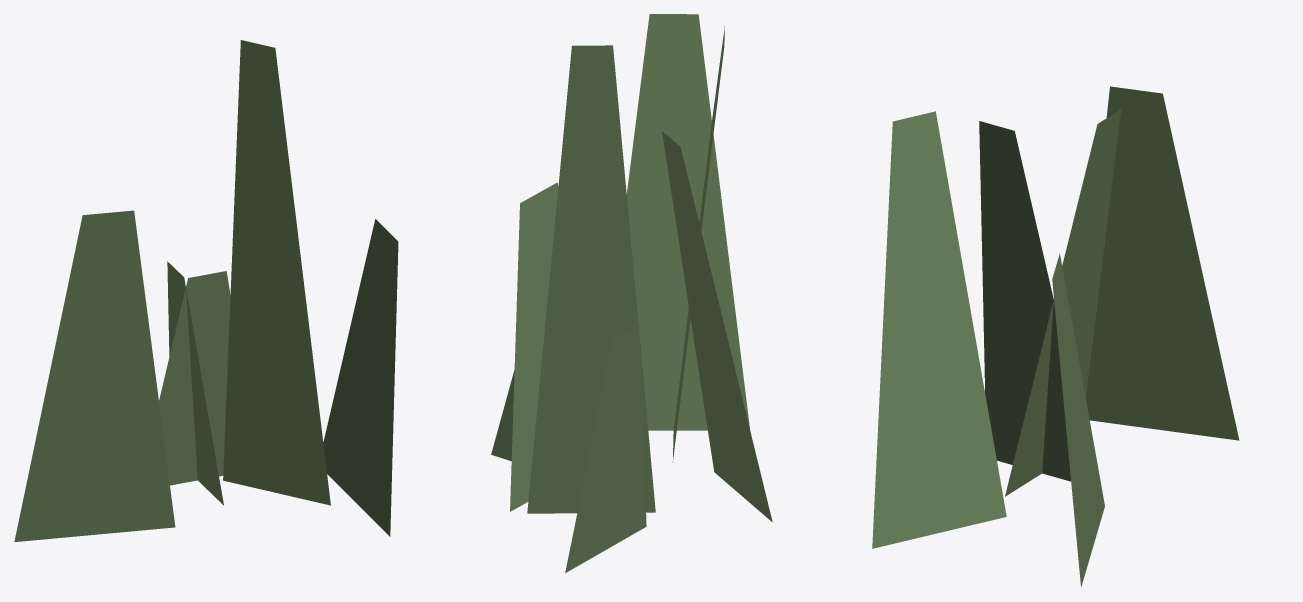
File: cao.jue__summer.glb
3 renders of one model, left to right at view 1: azimuth 30°, elevation 25°; view 2: azimuth 150°, elevation 25°; view 3: azimuth 270°, elevation 25°, orthographic. The views are drawn at different scales.
Visible parts, largest first — view 1: cao.jue__summer; view 2: cao.jue__summer; view 3: cao.jue__summer.
Boxes of the visible parts, x1=… form: cao.jue__summer: x1=14, y1=40, x2=398, y2=541; cao.jue__summer: x1=491, y1=14, x2=772, y2=573; cao.jue__summer: x1=872, y1=86, x2=1239, y2=587.
Bounding box in the file's own units: 0.9659 × 1.14 × 0.8791.
